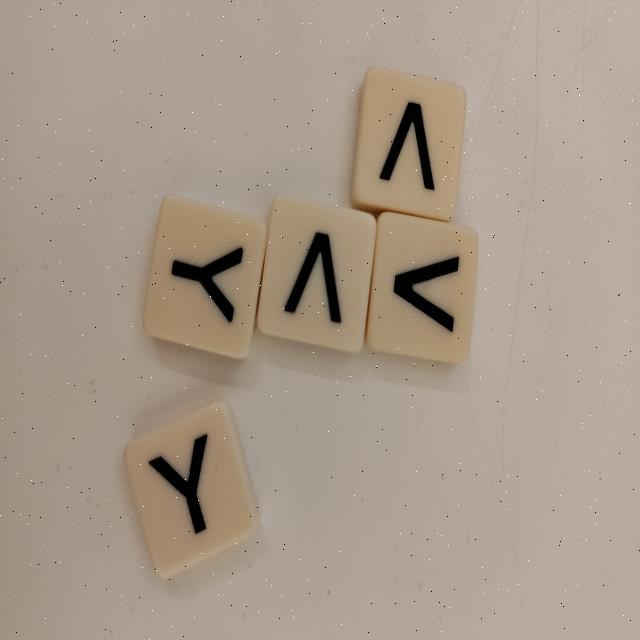v: (256, 193, 378, 354), (349, 65, 469, 223), (365, 209, 481, 365)
y: (121, 396, 265, 583), (143, 195, 269, 361)
